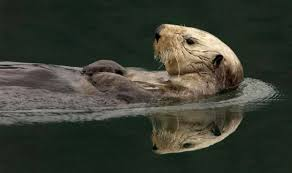otter: (1, 15, 258, 111)
